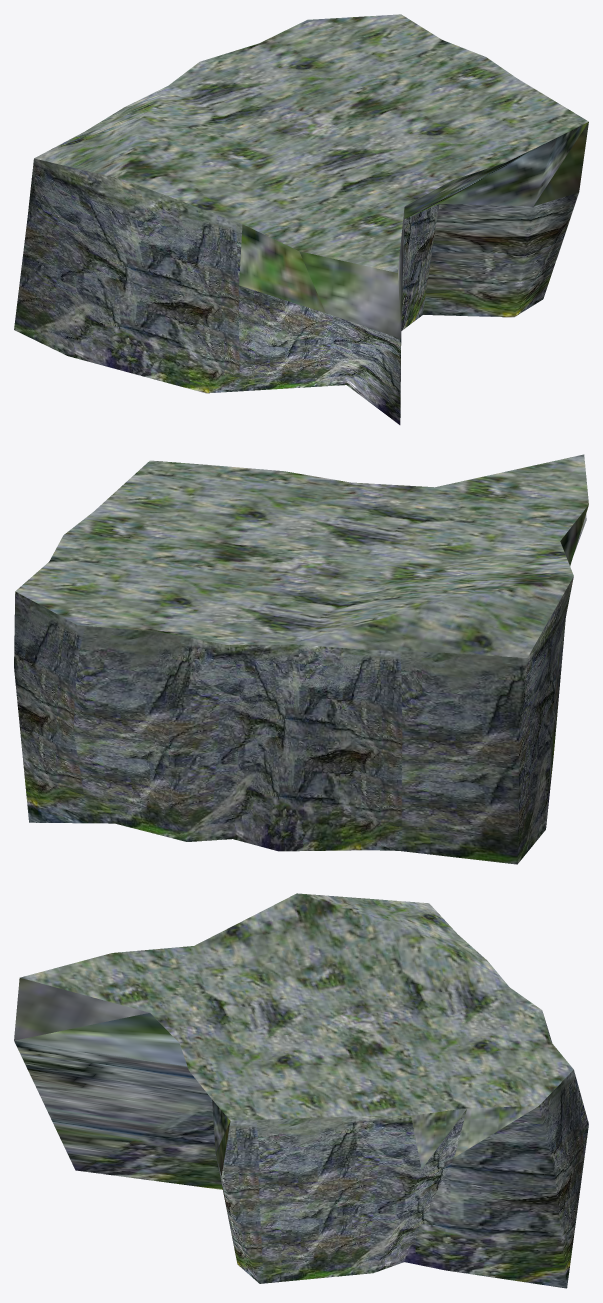
The picture shows the model from 3 angles, top to bottom: view 1: azimuth 30°, elevation 25°; view 2: azimuth 150°, elevation 25°; view 3: azimuth 270°, elevation 25°; orthographic projection. The views are drawn at different scales.
Visible parts, largest first — view 1: Box186; view 2: Box186; view 3: Box186.
Boxes of the visible parts, x1,y1,x2,y2 form: Box186: (14, 14, 588, 424); Box186: (14, 454, 588, 864); Box186: (14, 893, 588, 1288).
Bounding box in the file's own units: 333 × 153 × 367.
